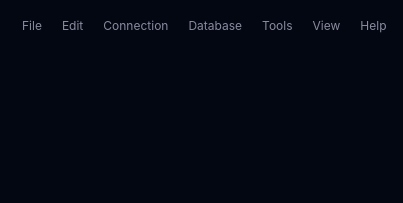
Test case: MenuBar › shows dropdown menu when a menu label is clicked
The image size is (403, 203).
Expected: the text "New Query Tab" is not shown
Click the menu item "File": (32, 26) [12, 14, 52, 38]
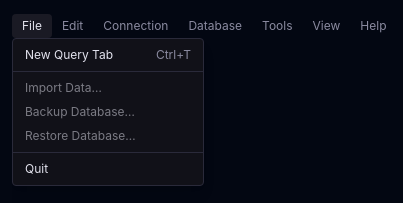
Now the text "New Query Tab" is shown, box [25, 47, 113, 63]
Now the text "Import Data…" is shown, box [25, 80, 102, 96]
Now the text "Quit" is shown, box [25, 161, 48, 177]
